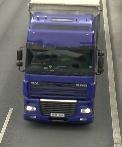Truck: (14, 1, 105, 132)
